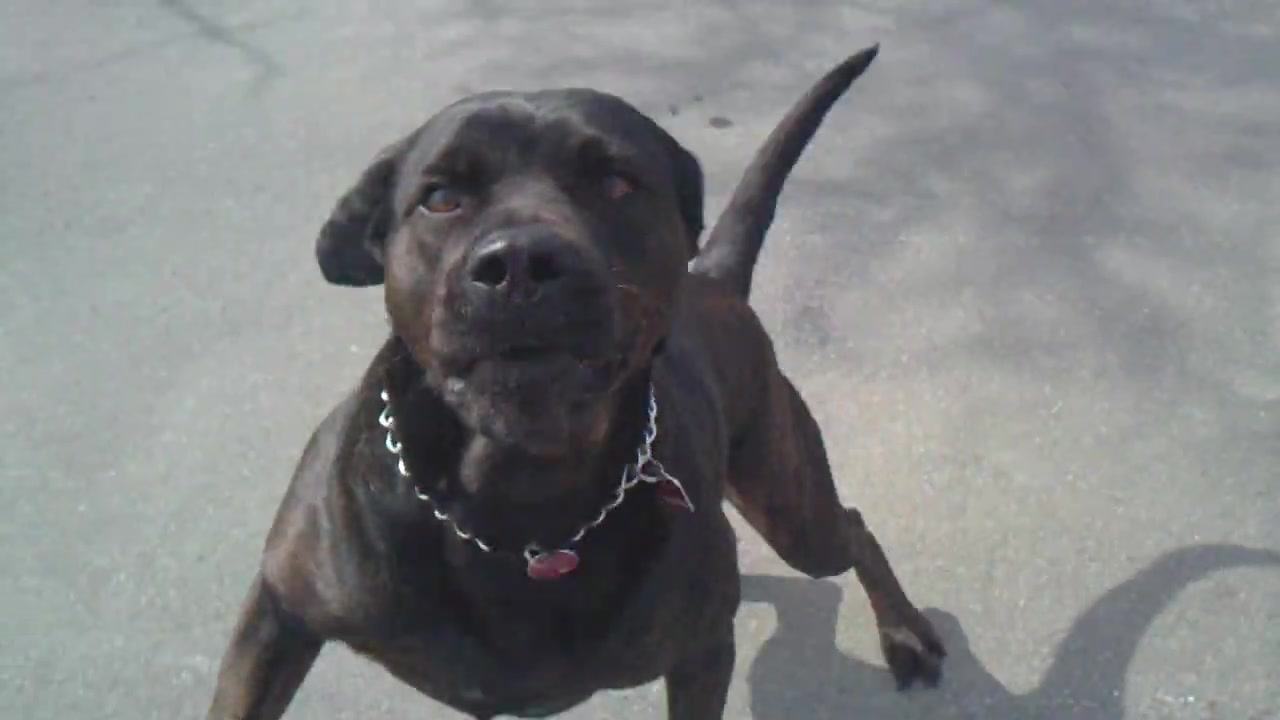dog: (203, 41, 948, 720)
